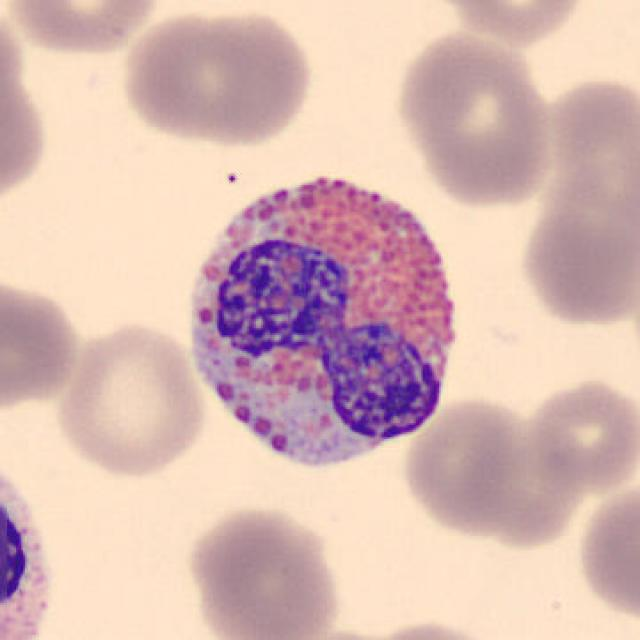Eosinophil: (173, 148, 477, 485), (0, 428, 69, 638)
RBC: (391, 28, 560, 212), (516, 81, 638, 332), (116, 3, 316, 150), (397, 392, 583, 548), (52, 319, 210, 481), (181, 500, 344, 640), (518, 374, 638, 495), (0, 271, 85, 417), (572, 478, 638, 628), (2, 0, 165, 58), (420, 0, 592, 48), (0, 70, 54, 194), (355, 615, 505, 640)
